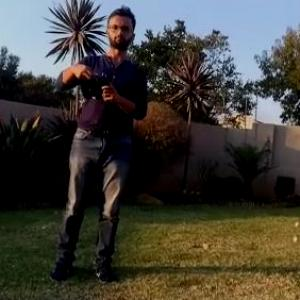follow: (43, 6, 151, 294)
